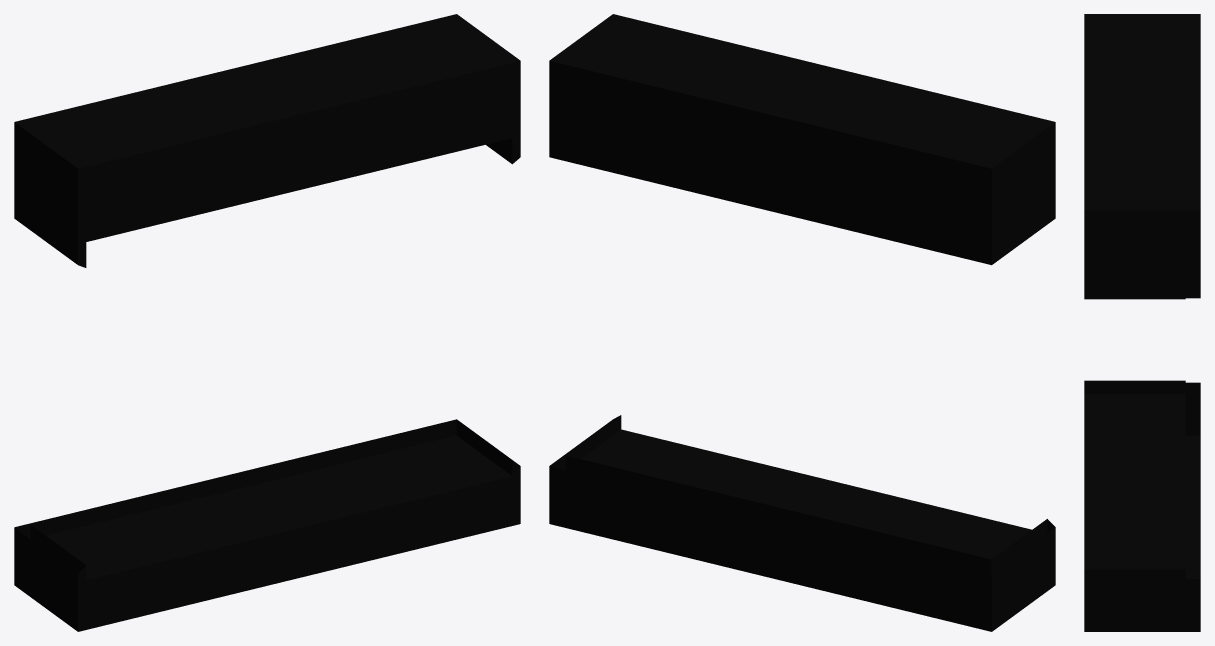
The model's file is Display_Shelf.fbx.
The picture shows the model from 3 angles, left to right: view 1: azimuth 30°, elevation 25°; view 2: azimuth 150°, elevation 25°; view 3: azimuth 270°, elevation 25°; orthographic projection. The views are drawn at different scales.
Parts seen in each view (by area): view 1: polySurface1; view 2: polySurface1; view 3: polySurface1.
Part boxes in pixels (left/top/right/bottom): polySurface1: left=14, top=14, right=520, bottom=631; polySurface1: left=549, top=14, right=1055, bottom=631; polySurface1: left=1084, top=14, right=1200, bottom=631.
Size of the model in its own units: 200 by 200 by 50.
